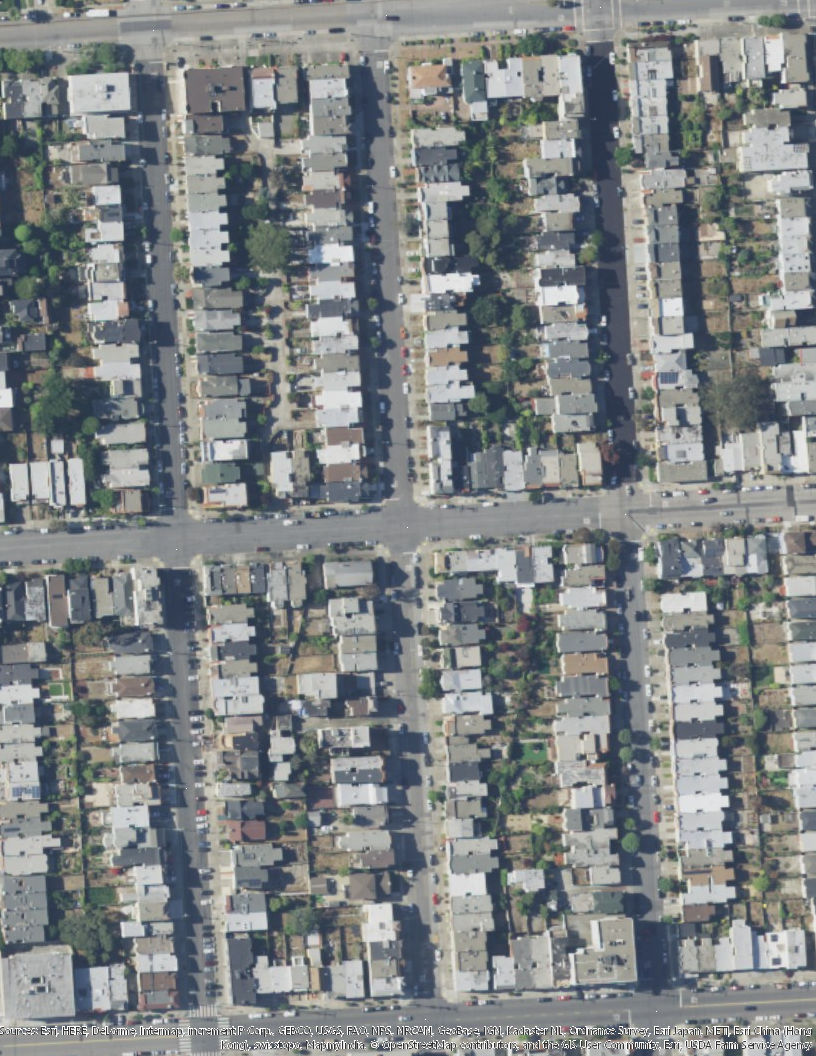zebracross: (177, 1018, 191, 1052), (217, 1016, 231, 1049), (188, 1005, 219, 1018)
